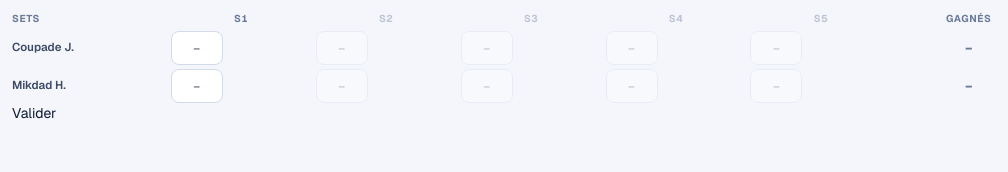
it: saisie d'un match en 3 sets gagnants à 60 › set 1 saisi 60–52 : vainqueur vert, perdant rouge, aucune erreur, suite neutre
Step 1. Type "60" into the number field named "Set 1, Coupade Jules" → {"x": 197, "y": 48}, box [171,30,223,64]
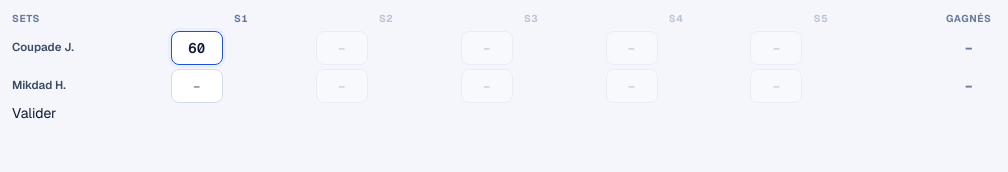
Step 2. Type "52" into the number field named "Set 1, Mikdad Hakim" → {"x": 197, "y": 86}, box [171,68,223,102]
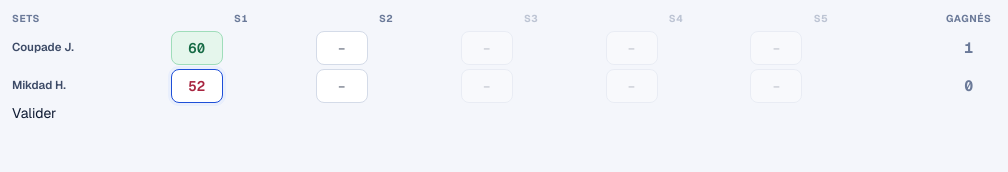
Expected: the number field named "Set 2, Coupade Jules" is enabled, [316,30,368,64]
Now the text named "Sets gagnés par Coupade Jules" reads "1", box [964,38,973,57]
Now the text named "Sets gagnés par Mikdad Hakim" reads "0", box [964,76,973,95]
